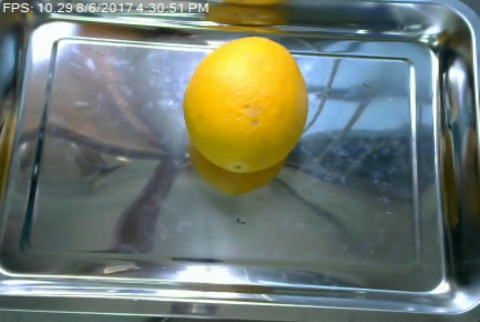Orange: (182, 37, 309, 174)
